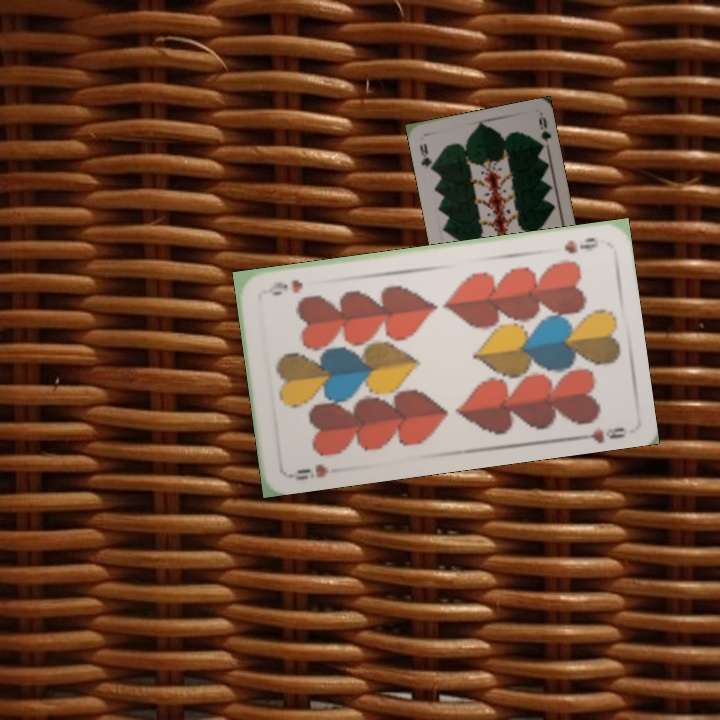G9: (415, 139, 437, 175)
H9: (285, 459, 331, 483), (560, 233, 601, 257)
